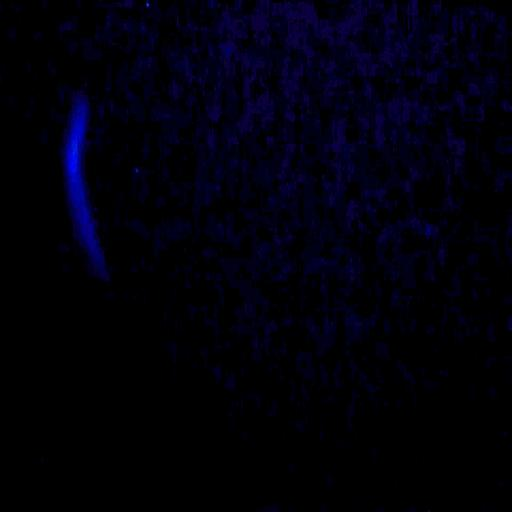object-detection-project: (66, 101, 105, 274)
